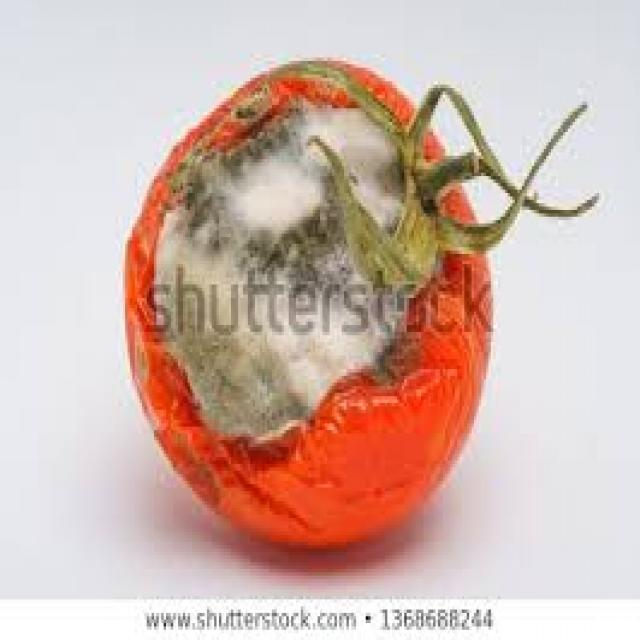organic waste: (123, 54, 594, 549)
